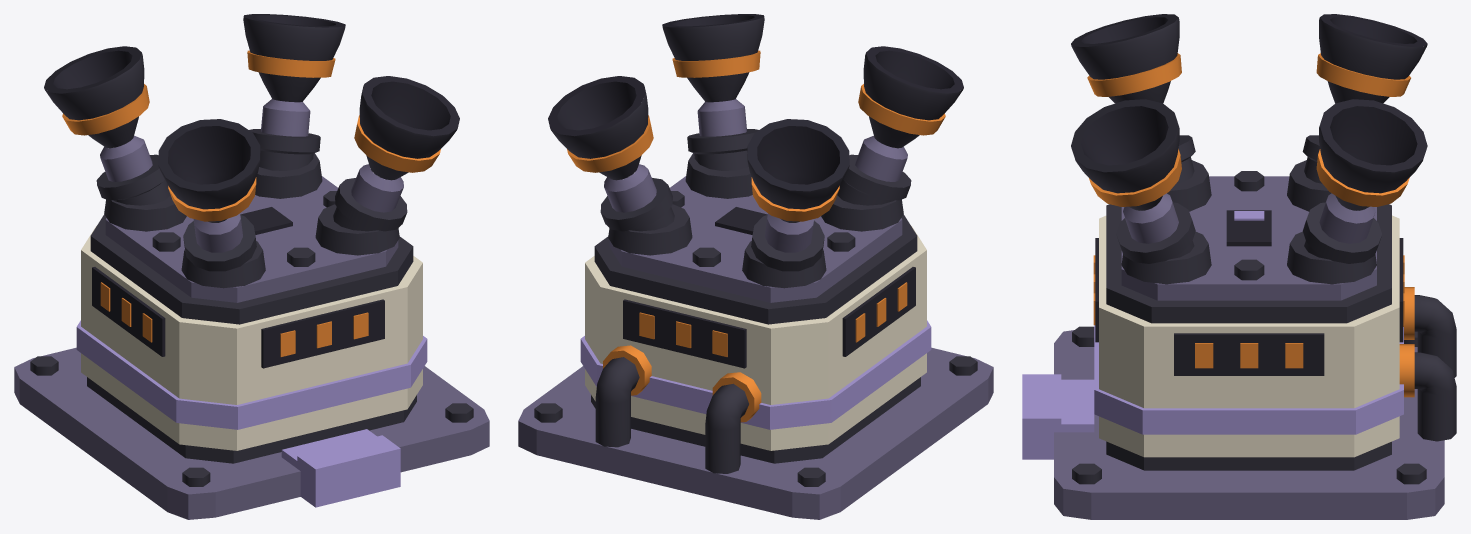
The model's file is chem_thrusters.glb.
3 views of the same model, side by side, from view 1: azimuth 30°, elevation 25°; view 2: azimuth 150°, elevation 25°; view 3: azimuth 270°, elevation 25° (orthographic). The views are drawn at different scales.
Visible parts, largest first — view 1: thrusters_Graphite, thrusters_PurpleGrey, thrusters_CreamHull, thrusters_DecalDark, thrusters_Lavender, thrusters_Orange; view 2: thrusters_Graphite, thrusters_PurpleGrey, thrusters_CreamHull, thrusters_DecalDark, thrusters_Orange, thrusters_Lavender; view 3: thrusters_Graphite, thrusters_PurpleGrey, thrusters_CreamHull, thrusters_DecalDark, thrusters_Lavender, thrusters_Orange.
Part boxes in pixels (box(x1,y1,x2,y2)): thrusters_Graphite: box(30, 17, 473, 486); thrusters_PurpleGrey: box(14, 99, 489, 519); thrusters_CreamHull: box(81, 225, 422, 450); thrusters_DecalDark: box(44, 14, 459, 368); thrusters_Lavender: box(76, 320, 427, 507); thrusters_Orange: box(62, 50, 440, 356); thrusters_Graphite: box(534, 17, 977, 486); thrusters_PurpleGrey: box(518, 99, 993, 519); thrusters_CreamHull: box(585, 225, 926, 450); thrusters_DecalDark: box(548, 14, 963, 368); thrusters_Orange: box(567, 50, 945, 422); thrusters_Lavender: box(580, 320, 931, 429); thrusters_Graphite: box(1071, 17, 1456, 484); thrusters_PurpleGrey: box(1054, 176, 1444, 519); thrusters_CreamHull: box(1099, 215, 1399, 457); thrusters_DecalDark: box(1071, 14, 1427, 375); thrusters_Lavender: box(1022, 211, 1403, 459); thrusters_Orange: box(1087, 53, 1414, 397).
Bounding box in the file's own units: 0.26 × 0.2727 × 0.289.
